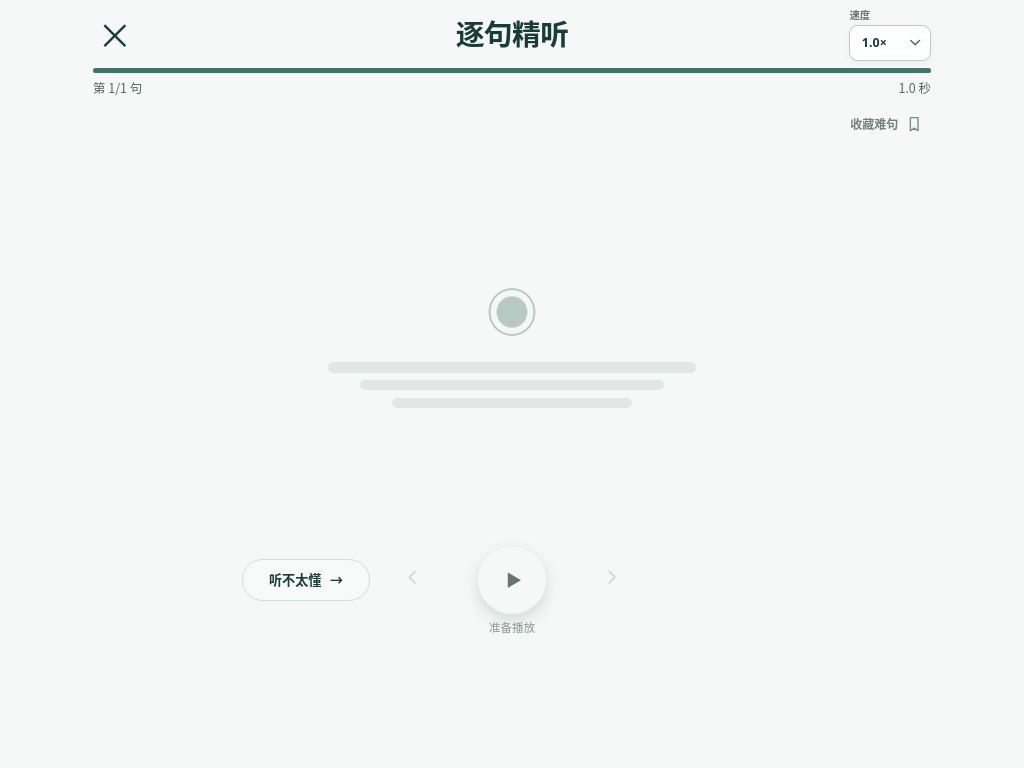
PracticeFlow › persists bookmarks during intensive review and rolls back a failed save
Click the button with aria-label "收藏为难句": {"x": 887, "y": 124} [843,108,931,140]
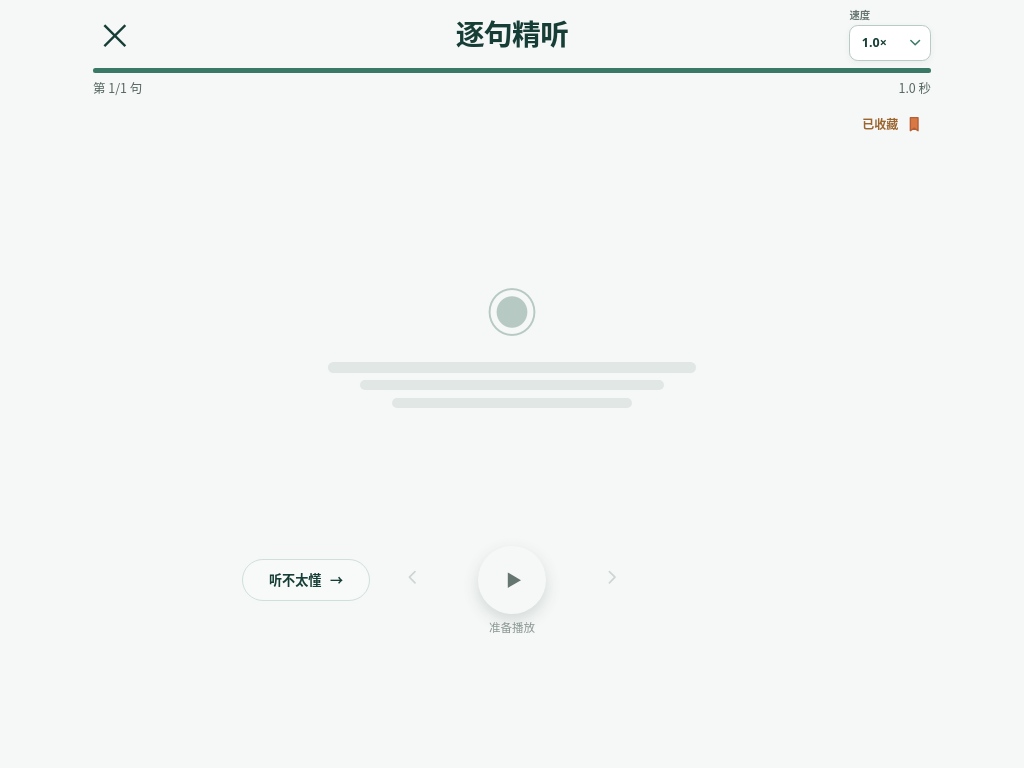
Check: the button with aria-label "取消难句收藏" is shown
Click the button with aria-label "取消难句收藏": {"x": 893, "y": 124} [855,108,931,140]
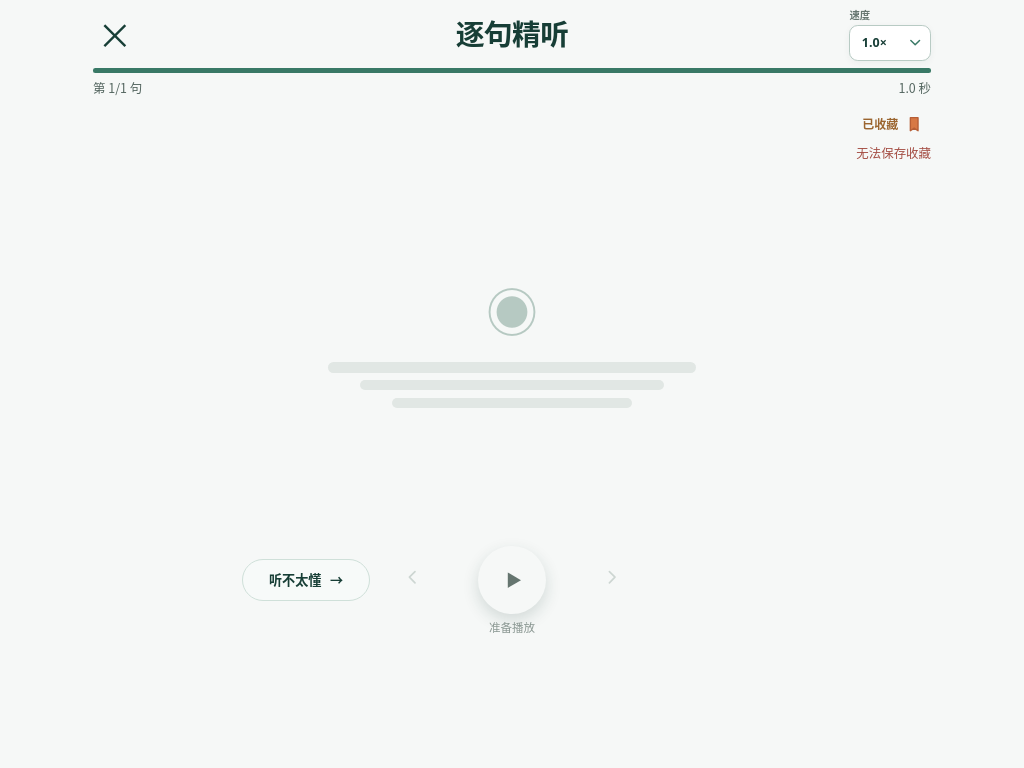
Check: the button with aria-label "取消难句收藏" is shown, box [855,108,931,140]
Check: the message reads "无法保存收藏", box [856,144,931,162]
